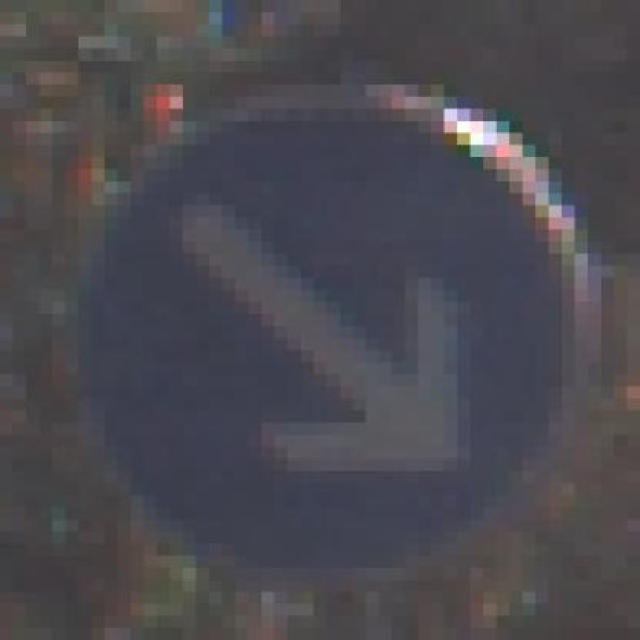Keep-Right: (39, 72, 613, 616)
